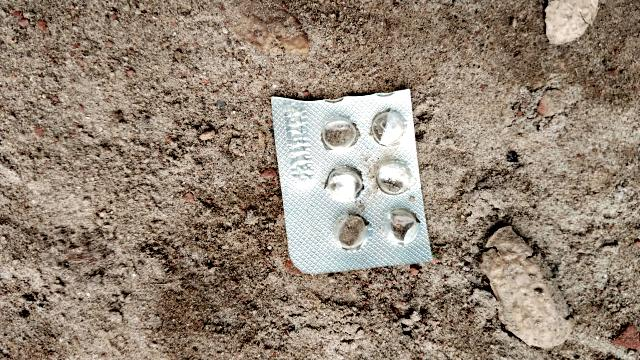medicine: (277, 90, 434, 269)
